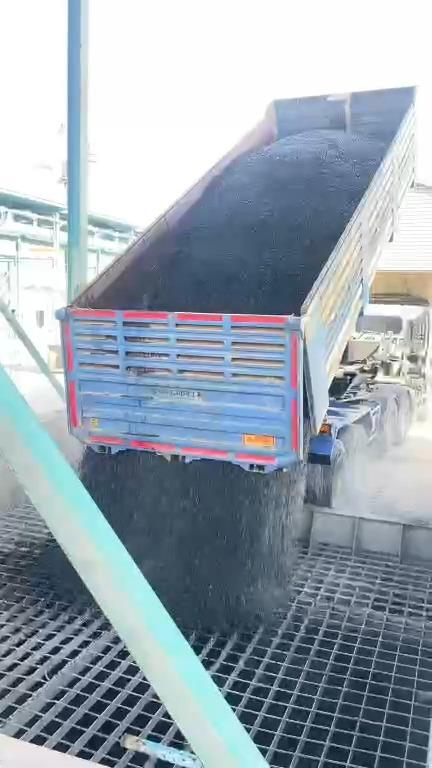gravel: (110, 131, 383, 313), (109, 131, 382, 312), (80, 450, 302, 629), (40, 548, 80, 590)
